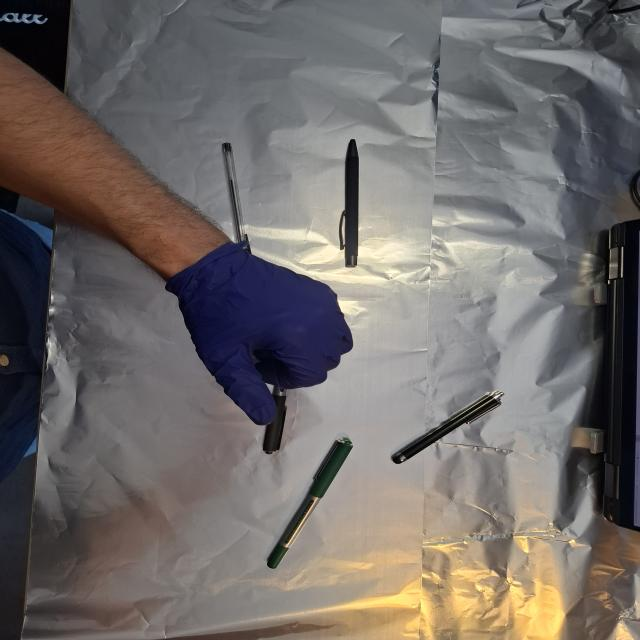glove_on: (161, 240, 357, 427)
